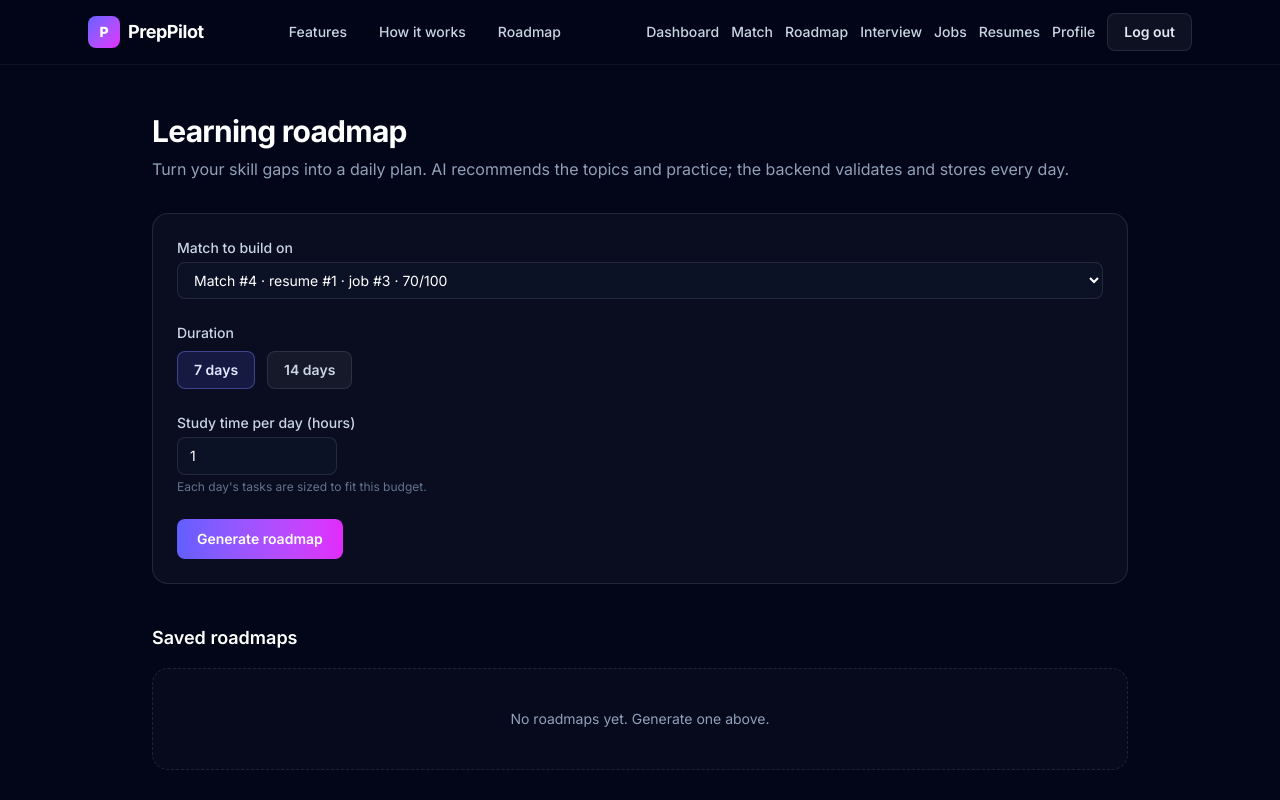
Test: generates a 14-day roadmap from the selected match
The width and height of the screenshot is (1280, 800).
Click the button "14 days": x=310, y=370 [267, 351, 352, 389]
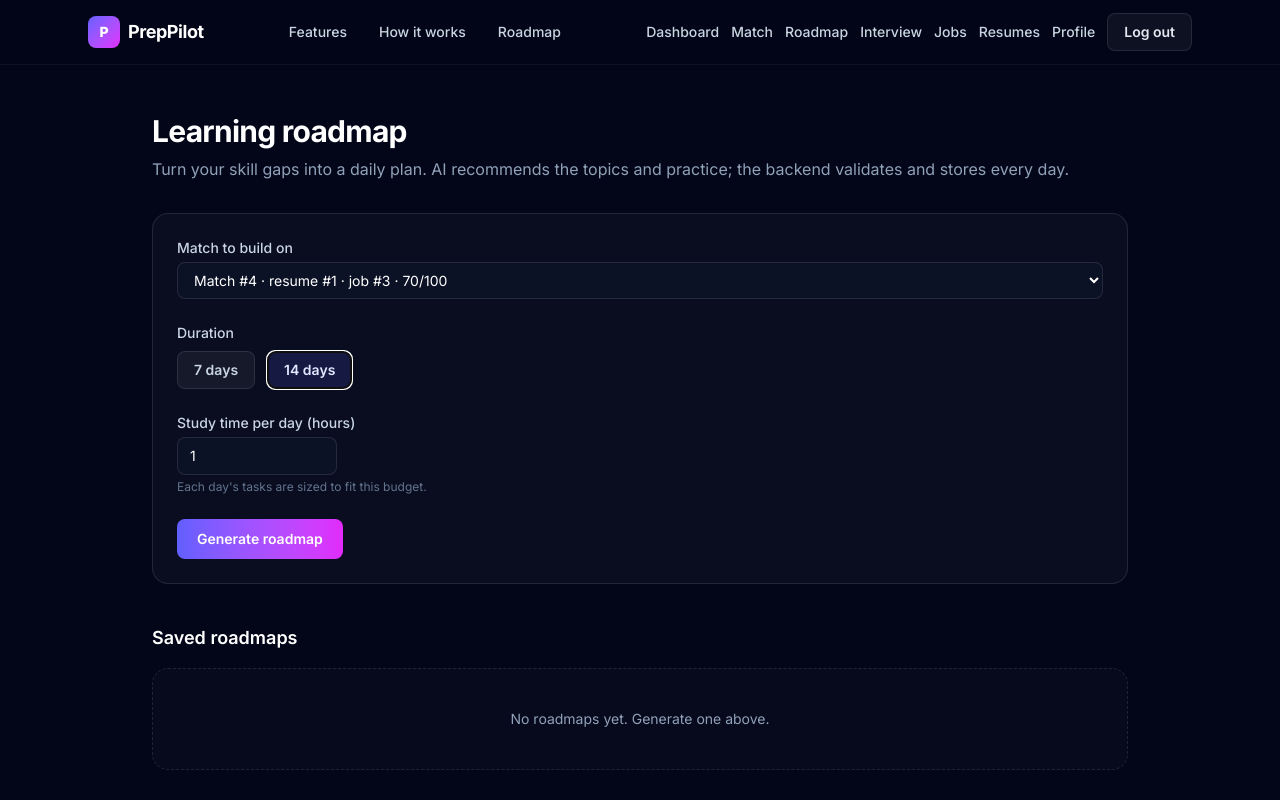
Replace the text in the number field labelled "Study time per day (hours)" with "2": x=257, y=456 [177, 437, 337, 475]
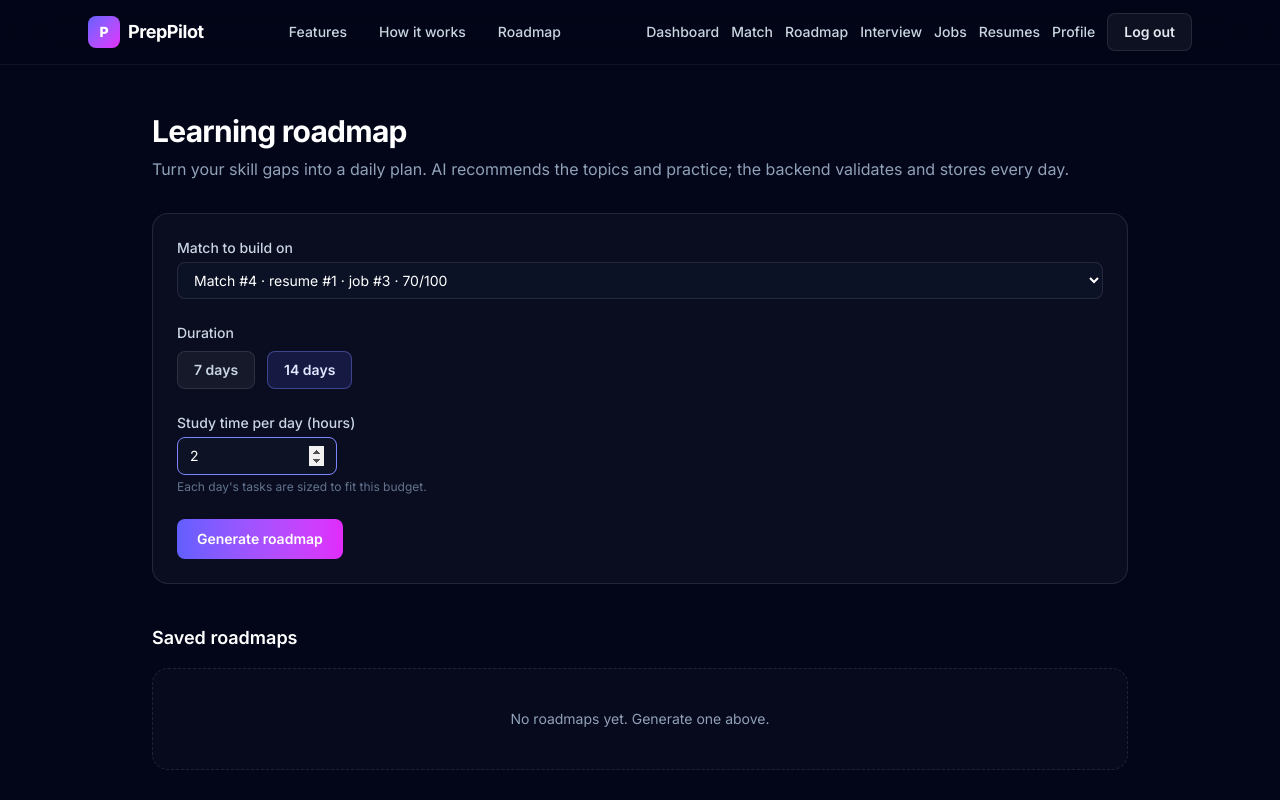
Click the button "Generate roadmap": x=260, y=539 [177, 519, 343, 559]
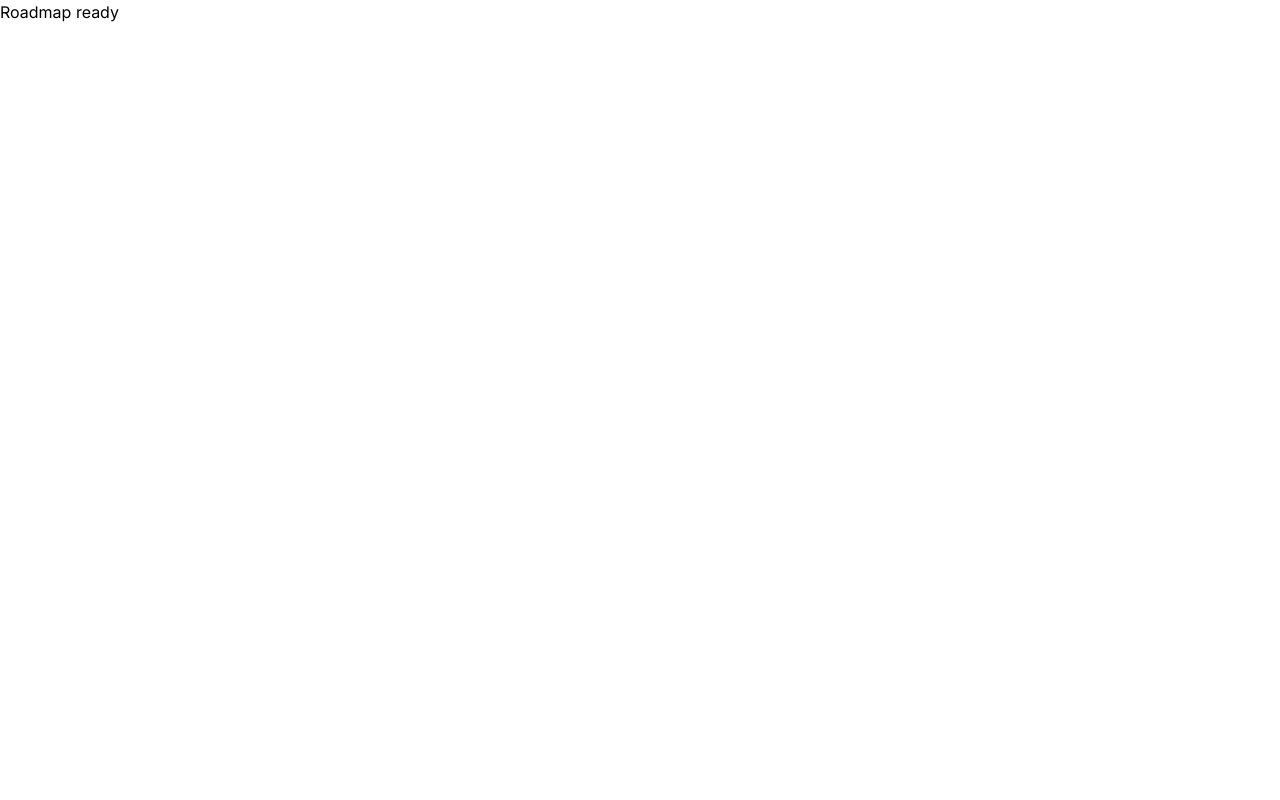
Result: the text "Roadmap ready" is shown at [0, 2, 119, 22]
